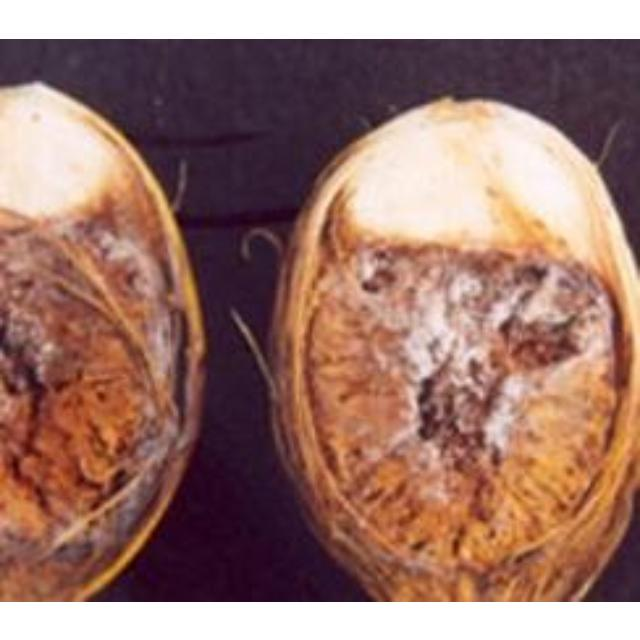damaged: (262, 101, 637, 599), (0, 85, 207, 599)
